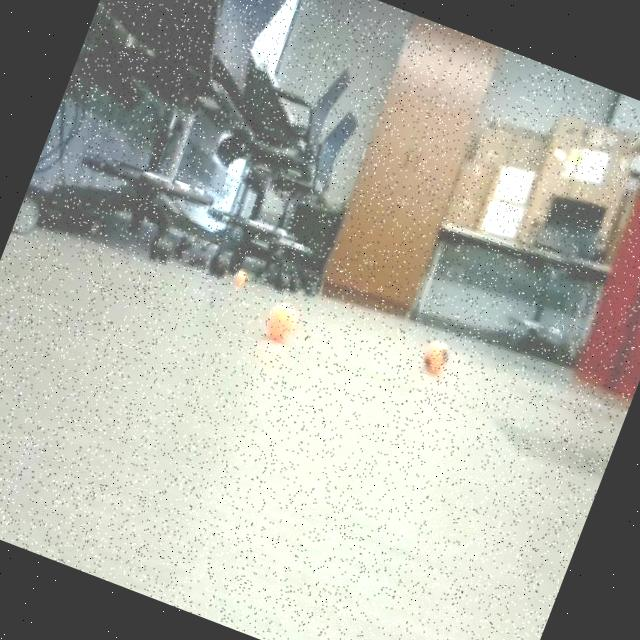ping-pong-ball: (261, 297, 305, 350), (418, 331, 458, 377), (230, 264, 250, 286)
